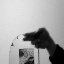h: (22, 25, 54, 49)
